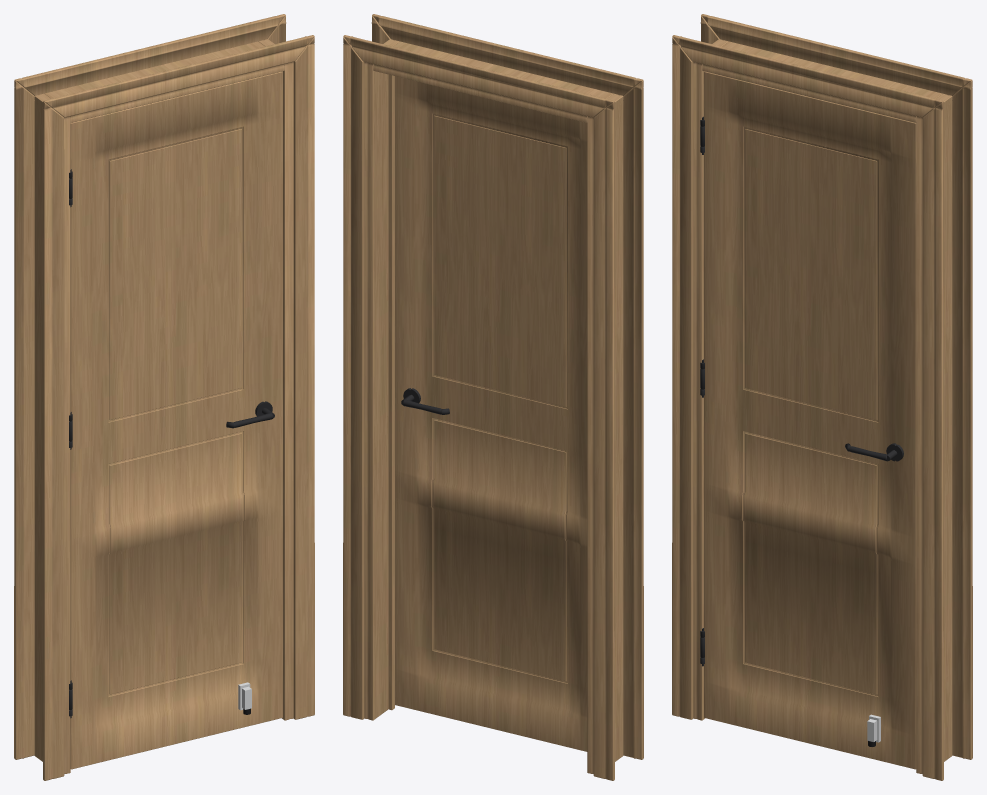
Rendered from mk_door_alpha_l.glb.
3 renders of one model, left to right at view 1: azimuth 30°, elevation 25°; view 2: azimuth 150°, elevation 25°; view 3: azimuth 330°, elevation 25°, orthographic.
Visible parts, largest first — view 1: mk_door_alpha_l_leaf_body, mk_door_alpha_l_casing, mk_door_alpha_l_frame, mk_door_alpha_l_handle; view 2: mk_door_alpha_l_leaf_body, mk_door_alpha_l_casing, mk_door_alpha_l_frame; view 3: mk_door_alpha_l_leaf_body, mk_door_alpha_l_casing, mk_door_alpha_l_frame, mk_door_alpha_l_handle, mk_door_alpha_l_hinges.
Boxes of the visible parts, x1,y1,x2,y2 form: mk_door_alpha_l_leaf_body: [70, 71, 282, 769]; mk_door_alpha_l_casing: [14, 14, 314, 780]; mk_door_alpha_l_frame: [34, 39, 293, 773]; mk_door_alpha_l_handle: [226, 401, 274, 714]; mk_door_alpha_l_leaf_body: [395, 76, 587, 751]; mk_door_alpha_l_casing: [343, 14, 643, 780]; mk_door_alpha_l_frame: [364, 39, 623, 773]; mk_door_alpha_l_leaf_body: [704, 71, 916, 769]; mk_door_alpha_l_casing: [672, 14, 972, 780]; mk_door_alpha_l_frame: [693, 39, 952, 773]; mk_door_alpha_l_handle: [845, 443, 903, 746]; mk_door_alpha_l_hinges: [700, 116, 704, 666].
Bounding box in the file's own units: 0.8794 × 2.11 × 0.2148.
4 materials, 1 textured.
